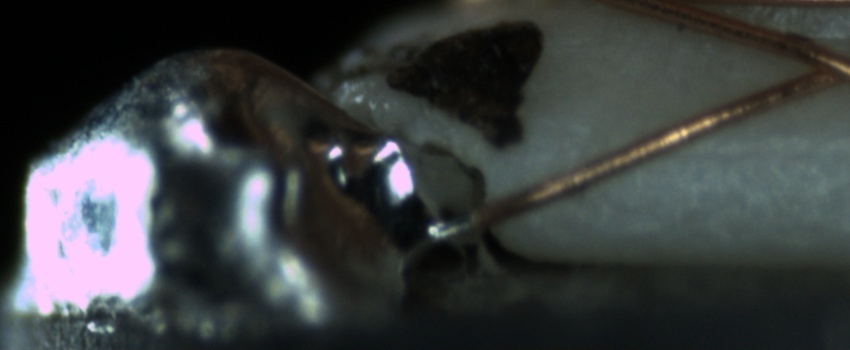CL: (776, 41, 848, 98)
DL: (632, 123, 850, 181)
TS: (422, 208, 476, 242)
